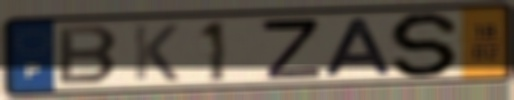1: (197, 19, 229, 83)
A: (320, 15, 397, 79)
B: (55, 24, 122, 87)
K: (130, 22, 181, 83)
S: (386, 10, 465, 79)
Z: (257, 17, 325, 81)
